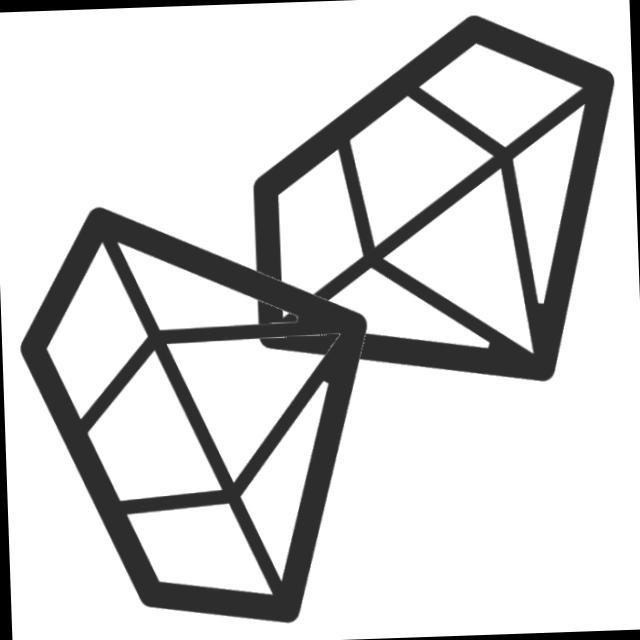diamond: (184, 3, 639, 403), (8, 184, 405, 640)
